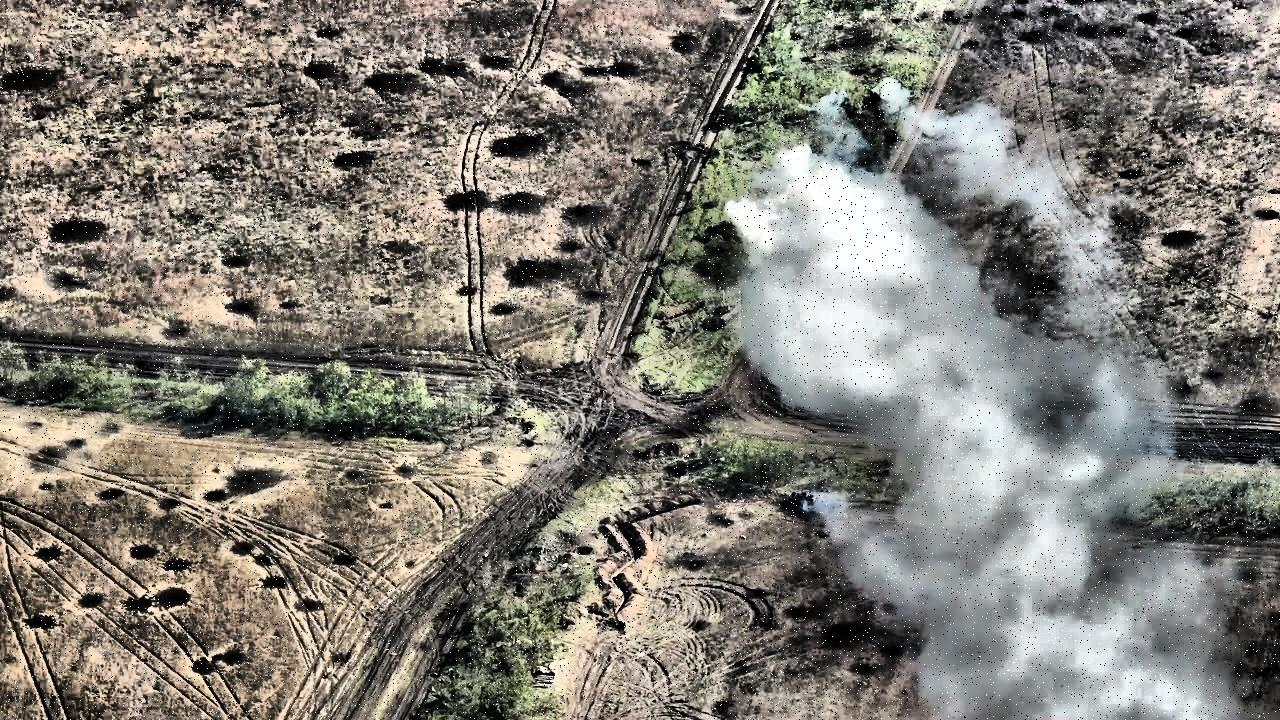military-vehicle: (703, 289, 741, 329)
